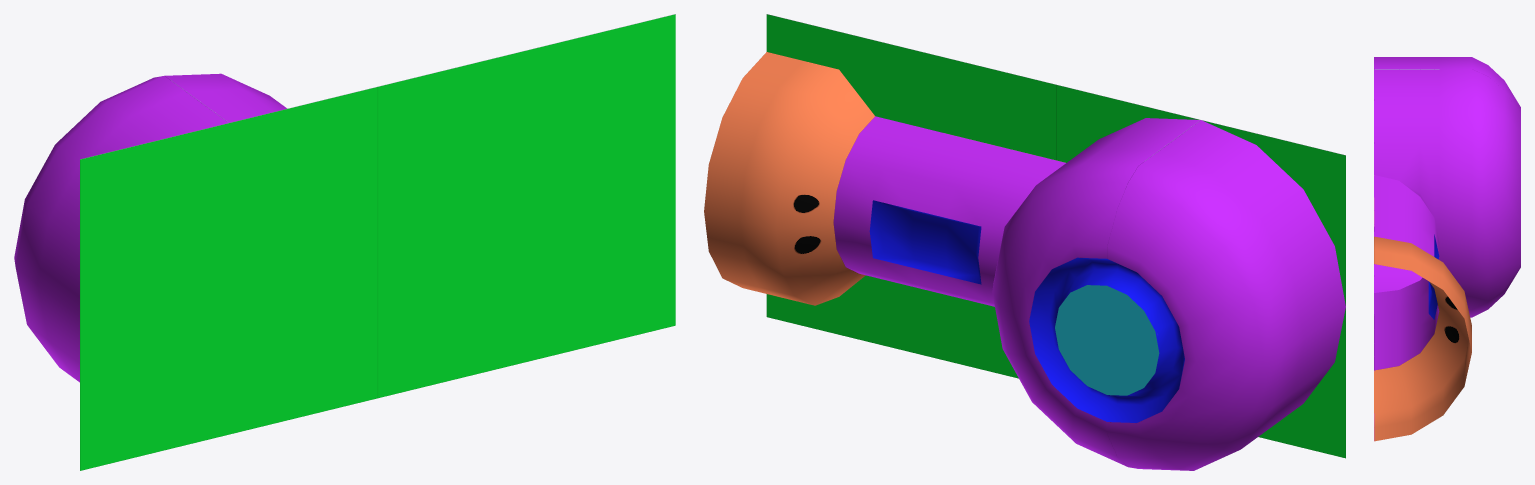
File: 1x2_Cap.fbx
The picture shows the model from 3 angles, left to right: view 1: azimuth 30°, elevation 25°; view 2: azimuth 150°, elevation 25°; view 3: azimuth 270°, elevation 25°; orthographic projection. The views are drawn at different scales.
Parts seen in each view (by area): view 1: Panel_1x2_Capacitor; view 2: Panel_1x2_Capacitor; view 3: Panel_1x2_Capacitor.
Part boxes in pixels (x1,y1,x2,y2): Panel_1x2_Capacitor: [14, 14, 675, 470]; Panel_1x2_Capacitor: [704, 14, 1345, 470]; Panel_1x2_Capacitor: [1374, 57, 1520, 441].
Size of the model in its own units: 200 by 100 by 56.25.
